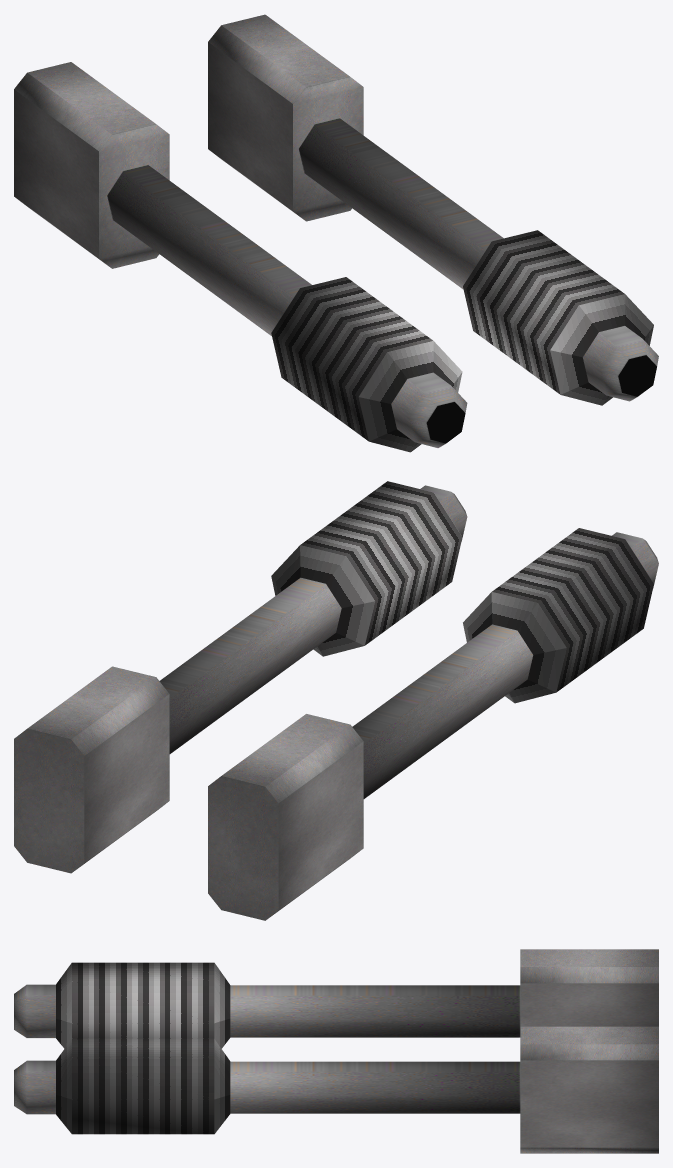
The model's file is Orca2CannonTurret.fbx.
3 renders of one model, top to bottom at view 1: azimuth 30°, elevation 25°; view 2: azimuth 150°, elevation 25°; view 3: azimuth 270°, elevation 25°, orthographic. The views are drawn at different scales.
Parts seen in each view (by area): view 1: Orca2CannonTurret; view 2: Orca2CannonTurret; view 3: Orca2CannonTurret.
Part boxes in pixels (x1,y1,x2,y2): Orca2CannonTurret: [14, 14, 658, 452]; Orca2CannonTurret: [14, 481, 658, 920]; Orca2CannonTurret: [14, 949, 658, 1153].
Bounding box in the file's own units: 92.22 × 40 × 214.
